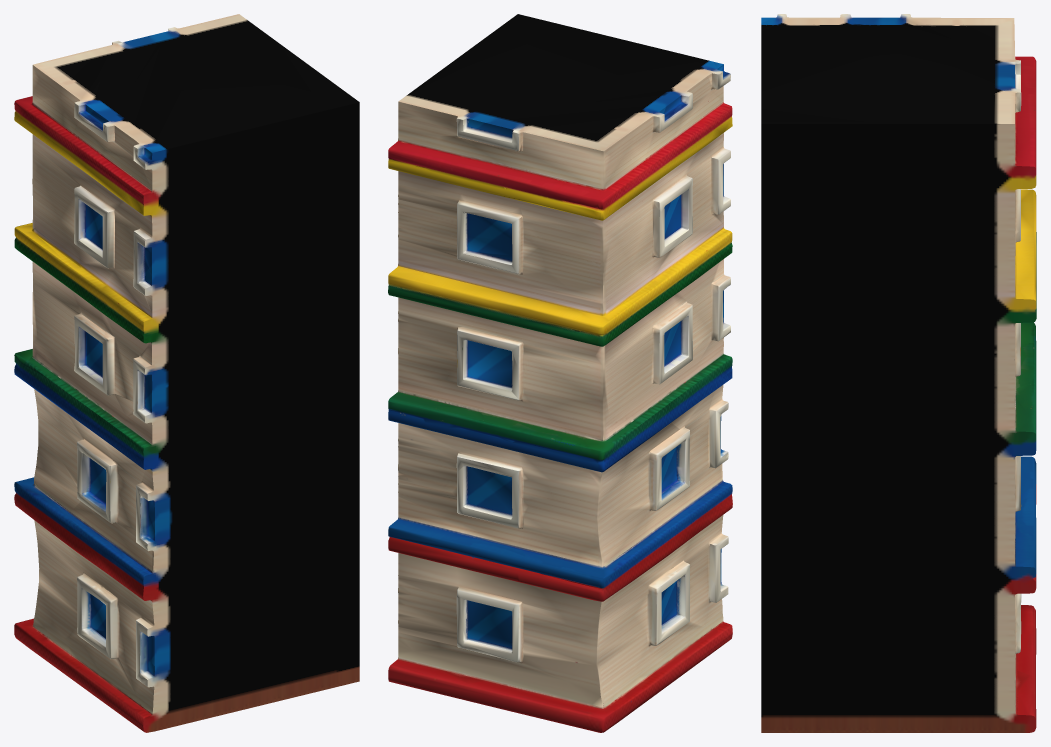
The model's file is 3-ground-floor-back-left.fbx.
3 views of the same model, side by side, from view 1: azimuth 30°, elevation 25°; view 2: azimuth 150°, elevation 25°; view 3: azimuth 270°, elevation 25° (orthographic). The views are drawn at different scales.
Parts seen in each view (by area): view 1: ground-floor-back-left; view 2: ground-floor-back-left; view 3: ground-floor-back-left.
Boxes of the visible parts, x1=… form: ground-floor-back-left: x1=14, y1=14, x2=359, y2=732; ground-floor-back-left: x1=388, y1=14, x2=732, y2=732; ground-floor-back-left: x1=761, y1=14, x2=1036, y2=732.
Size of the model in its own units: 4296 by 10955 by 4489.
Materials: 1 (1 with a texture image).
